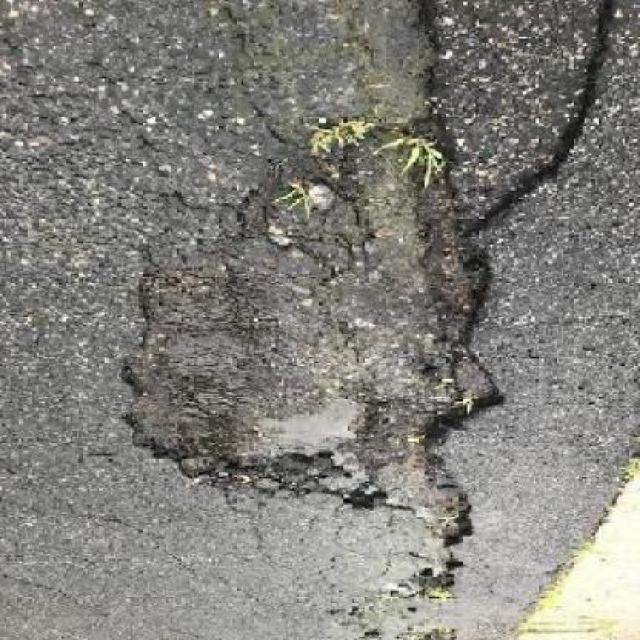pothole: (114, 117, 514, 594)
